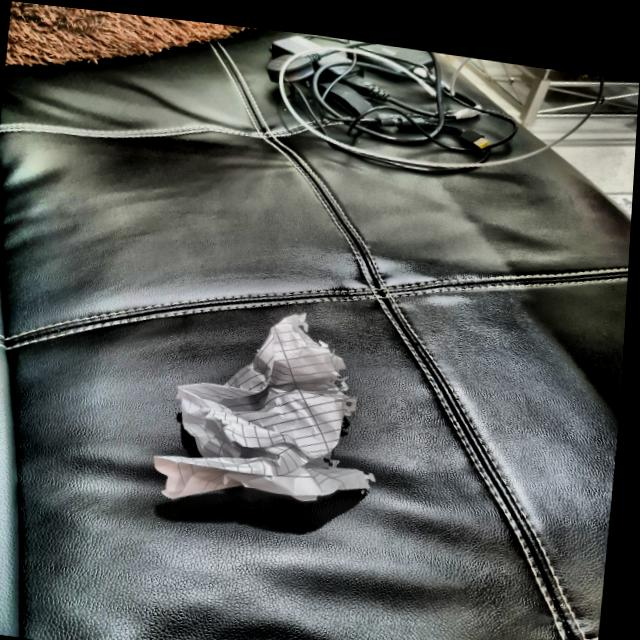Paper: (149, 300, 374, 517)
